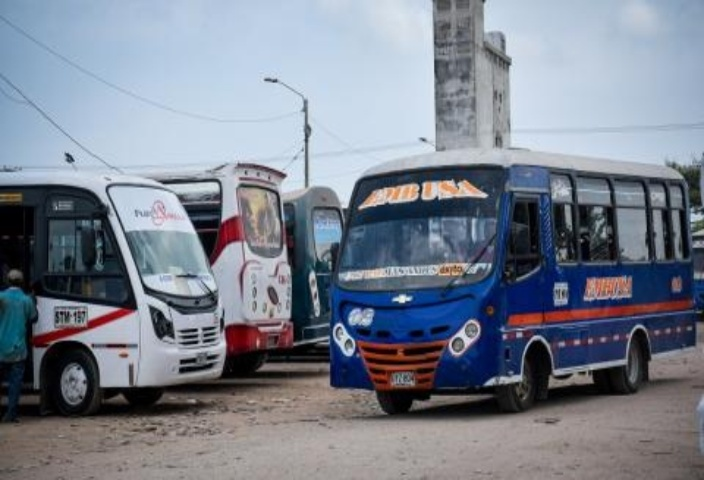bus: (315, 150, 704, 411), (1, 165, 231, 422), (145, 155, 297, 372), (283, 170, 351, 359)
